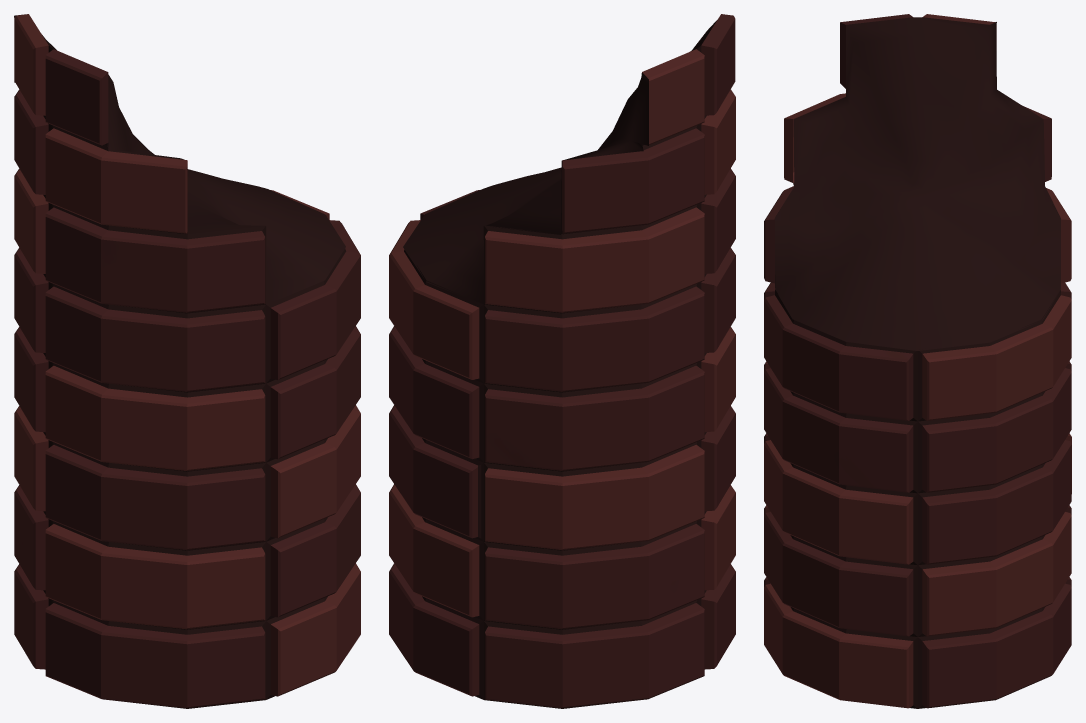
File: Pillar.fbx
3 views of the same model, side by side, from view 1: azimuth 30°, elevation 25°; view 2: azimuth 150°, elevation 25°; view 3: azimuth 270°, elevation 25° (orthographic). The views are drawn at different scales.
Visible parts, largest first — view 1: Cylinder.004; view 2: Cylinder.004; view 3: Cylinder.004.
Part boxes in pixels (<box>): Cylinder.004: <box>14,14,360,708</box>; Cylinder.004: <box>389,14,735,708</box>; Cylinder.004: <box>764,14,1071,708</box>.
Bounding box in the file's own units: 196 × 397 × 194.
